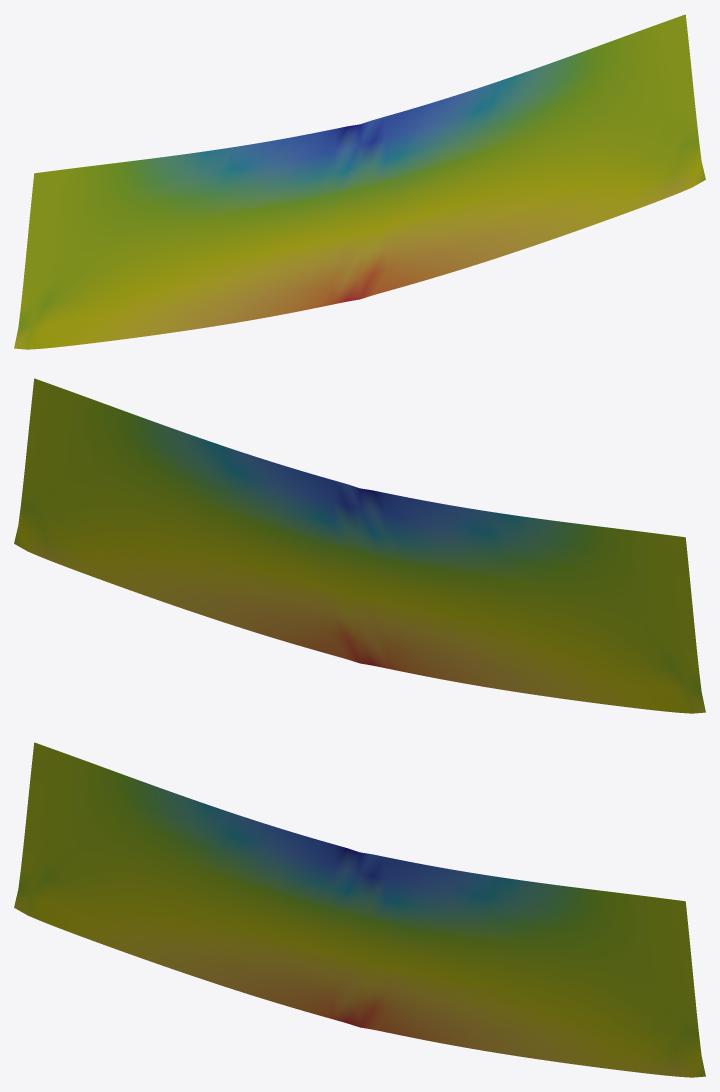
File: displaced.glb
The picture shows the model from 3 angles, top to bottom: view 1: azimuth 30°, elevation 25°; view 2: azimuth 150°, elevation 25°; view 3: azimuth 330°, elevation 25°; orthographic projection.
Size of the model in its own units: 41.35 by 11.74 by 0.
